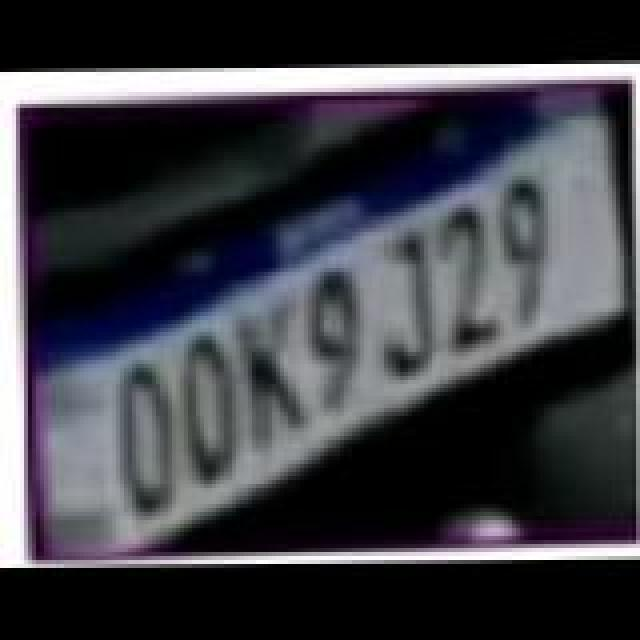2: (422, 200, 522, 356)
9: (286, 268, 386, 420), (486, 178, 578, 330)
J: (350, 232, 458, 384)
K: (214, 306, 322, 454)
O: (100, 362, 204, 522), (162, 330, 262, 490)
